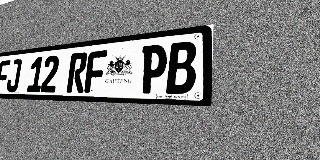1: (27, 56, 45, 92)
2: (40, 55, 60, 92)
B: (166, 41, 197, 94)
F: (84, 50, 107, 93), (0, 60, 11, 92)
J: (6, 59, 22, 92)
P: (139, 44, 168, 94)
R: (66, 52, 88, 93)
